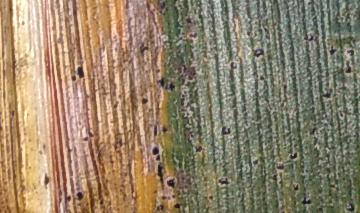tarspot: (175, 63, 197, 80), (156, 76, 177, 93), (155, 160, 164, 194), (137, 39, 151, 56), (249, 46, 266, 59), (326, 41, 338, 58), (75, 62, 86, 80), (218, 123, 232, 137), (165, 175, 177, 191), (41, 172, 52, 189), (248, 156, 264, 167), (300, 196, 313, 209), (321, 88, 334, 101), (344, 198, 355, 213), (301, 31, 316, 42), (149, 143, 161, 156), (217, 176, 230, 188), (343, 59, 352, 76), (291, 180, 301, 195), (152, 203, 166, 213), (76, 187, 84, 204), (193, 143, 204, 155), (268, 172, 280, 183), (139, 94, 149, 107), (256, 71, 266, 84), (151, 122, 159, 138), (229, 58, 238, 72), (307, 125, 318, 136), (288, 151, 300, 161), (280, 81, 289, 94), (183, 15, 193, 26), (172, 202, 182, 212), (64, 193, 73, 204), (207, 193, 216, 204), (274, 162, 286, 170), (161, 125, 169, 136), (154, 154, 162, 162)
